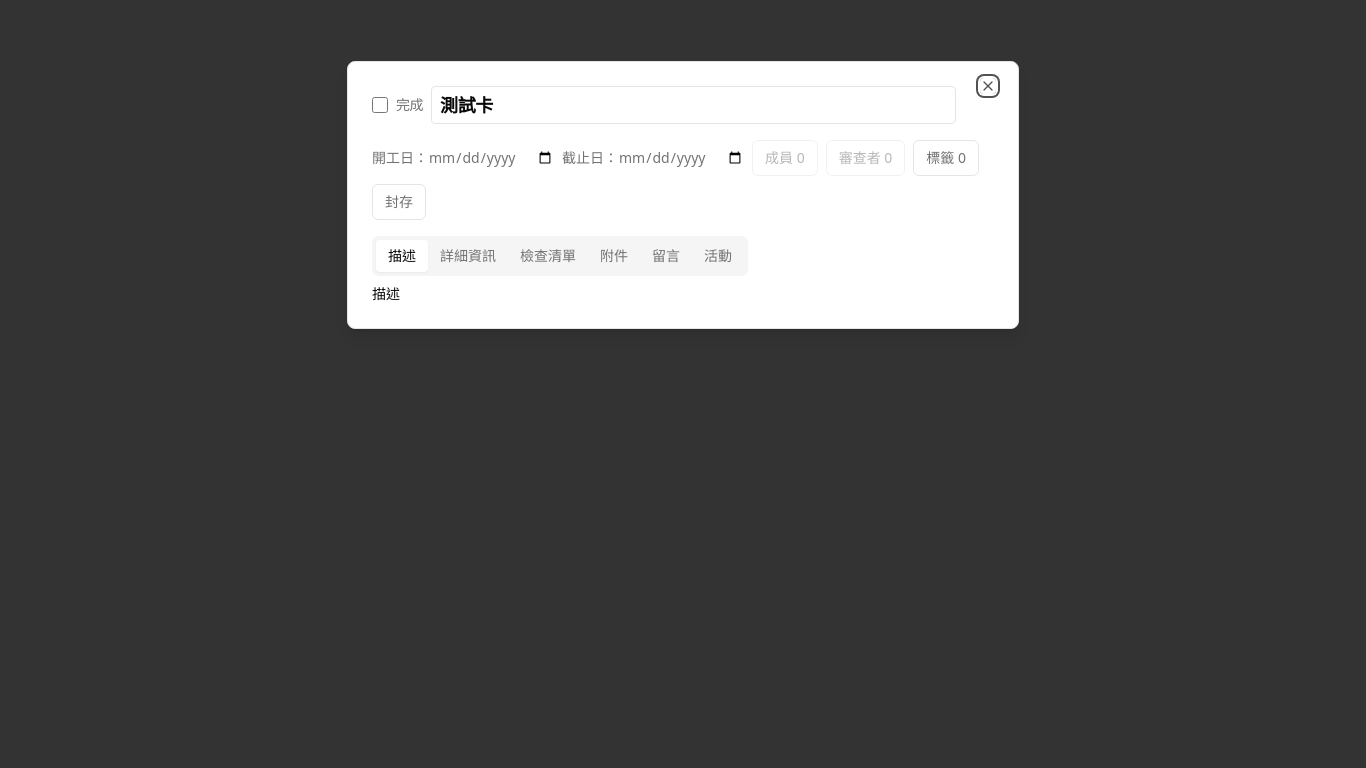
Test: 誤導空態（#16） › 自訂欄位查詢失敗顯示載入失敗與重試而非尚無自訂欄位
Expected: the field showing "測試卡" is shown, [431,86,956,124]
Press the mouse on the tab "詳細資訊" at (468, 256), box [428,240,508,272]
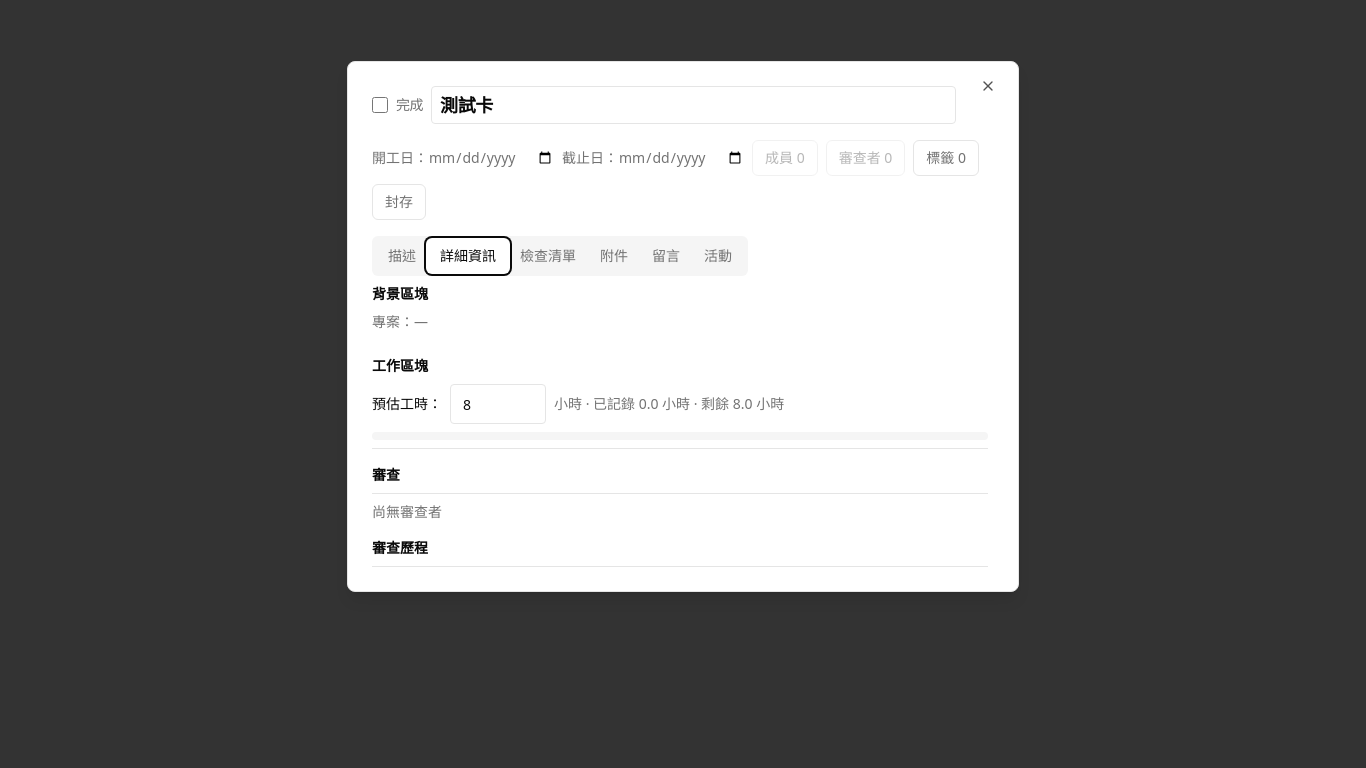
Click the tab "詳細資訊" at (468, 256), box [428,240,508,272]
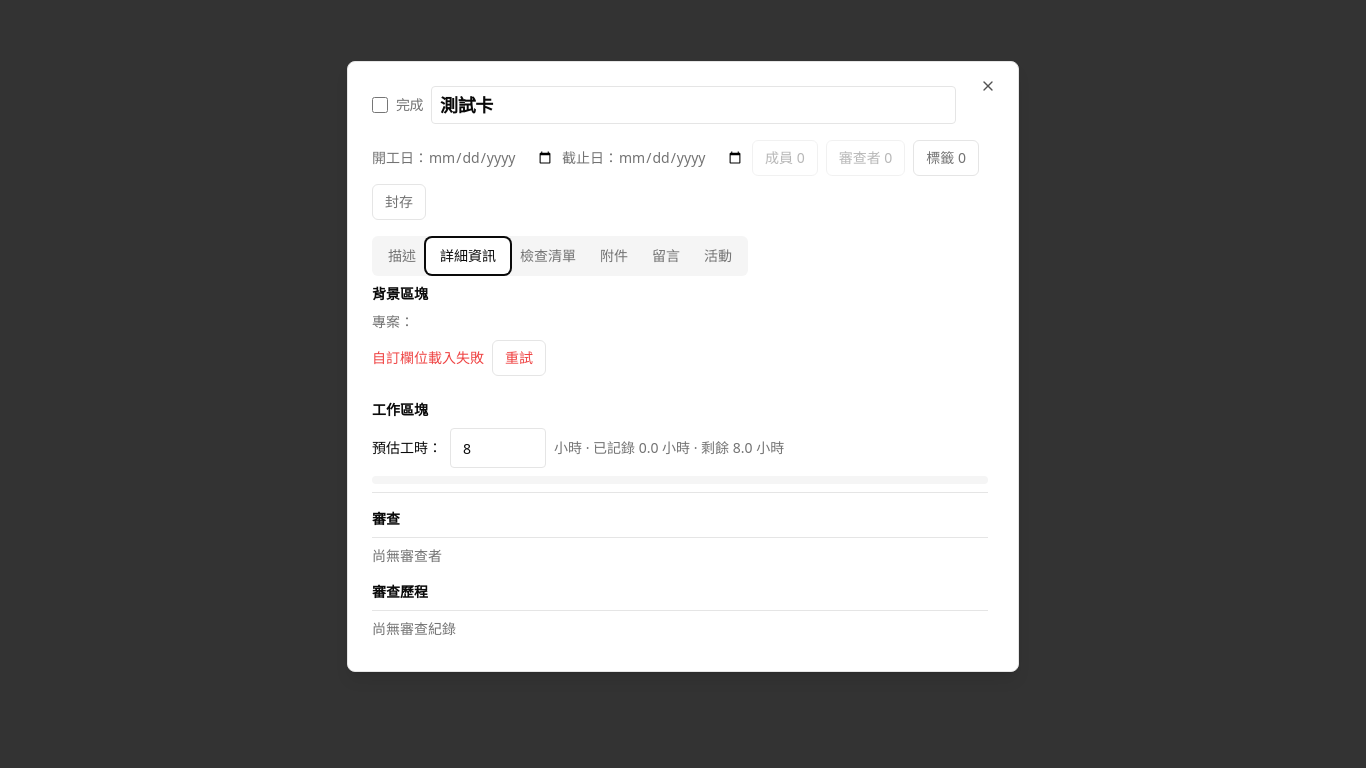
Result: the text "自訂欄位載入失敗" is shown at [372,348,484,367]
Result: the button "重試" is shown at [492,340,546,376]
